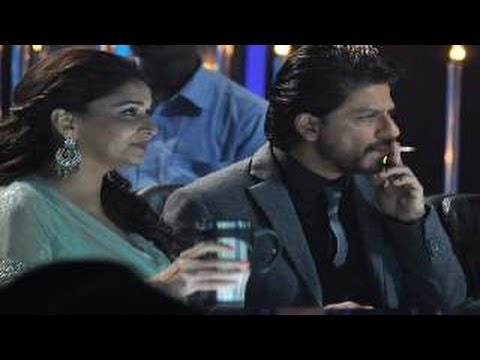cigarette: (389, 142, 416, 155)
not_cigarette: (195, 213, 282, 310)
